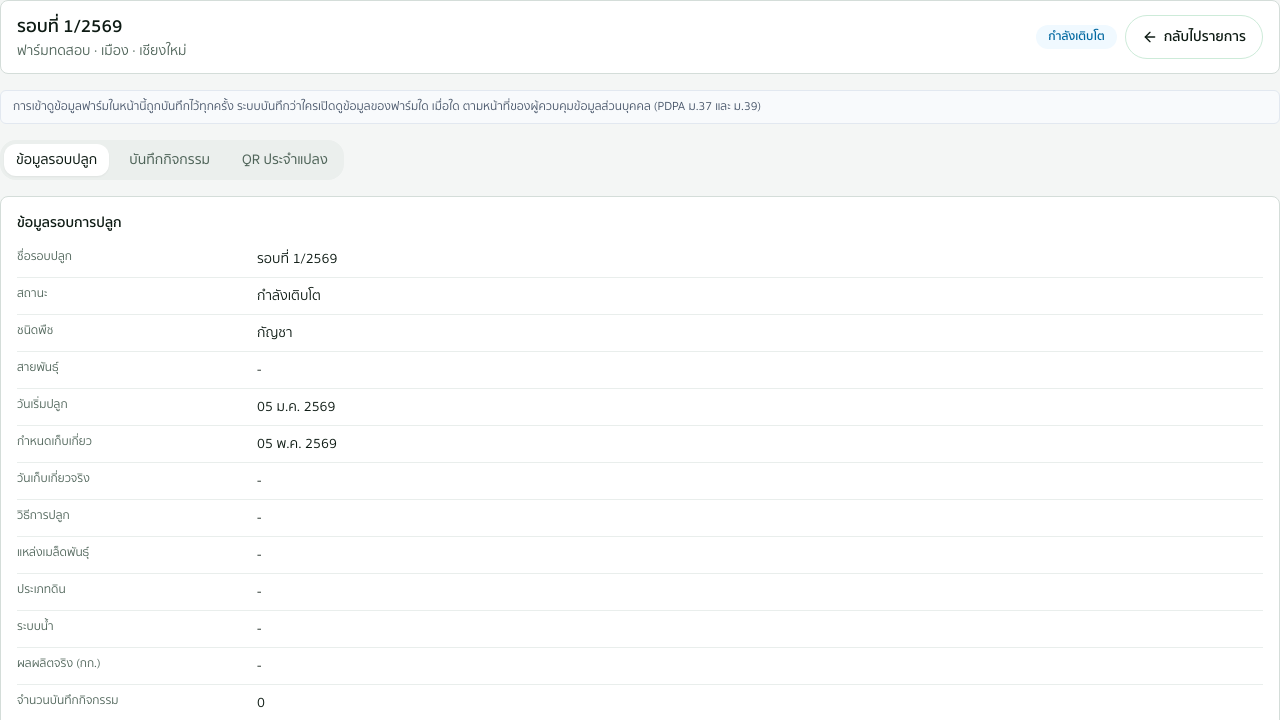
Scenario: จอติดตามการปลูก: อ่านไม่สำเร็จ ไม่ใช่ไม่มีข้อมูล › จอรายละเอียด: บันทึกกิจกรรมอ่านล้ม ต้องไม่กลายเป็น "ไม่พบบันทึกกิจกรรม"
The width and height of the screenshot is (1280, 720).
Press the mouse on the tab "บันทึกกิจกรรม" at (170,160), box [117,144,222,176]
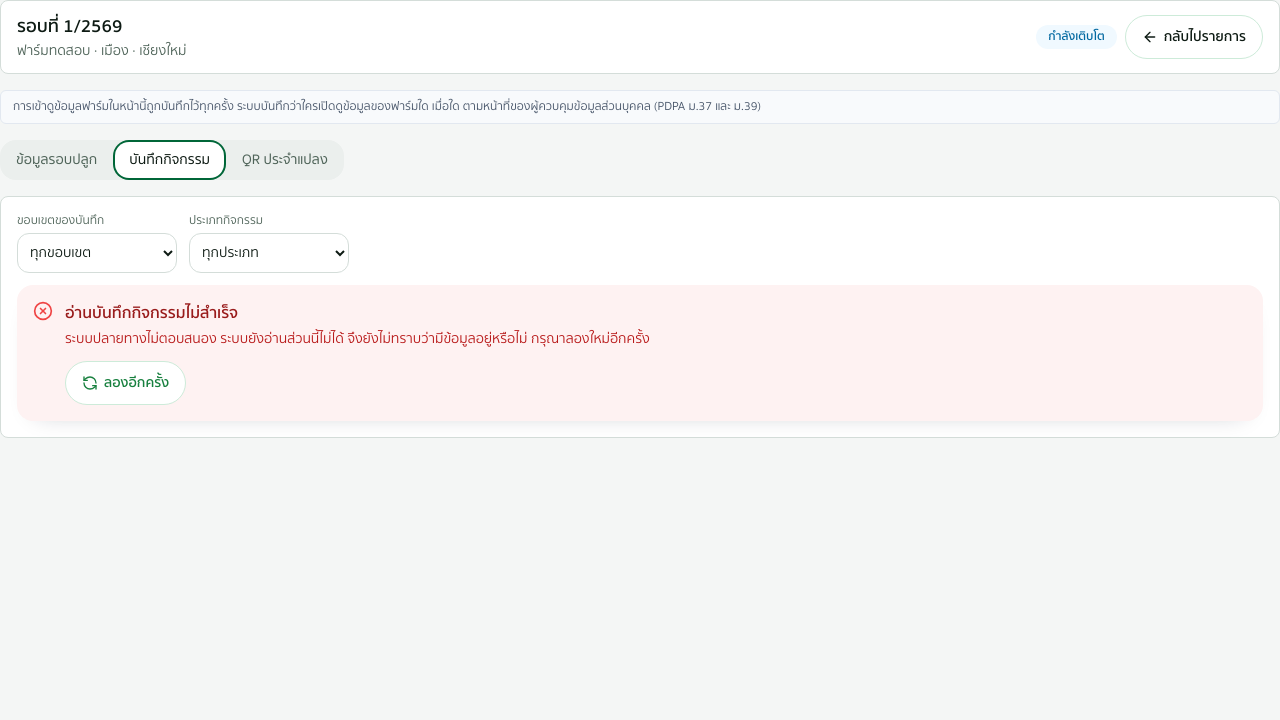
Now the message with test id "tracking-activities-read-error" is shown, box [17,285,1263,421]
